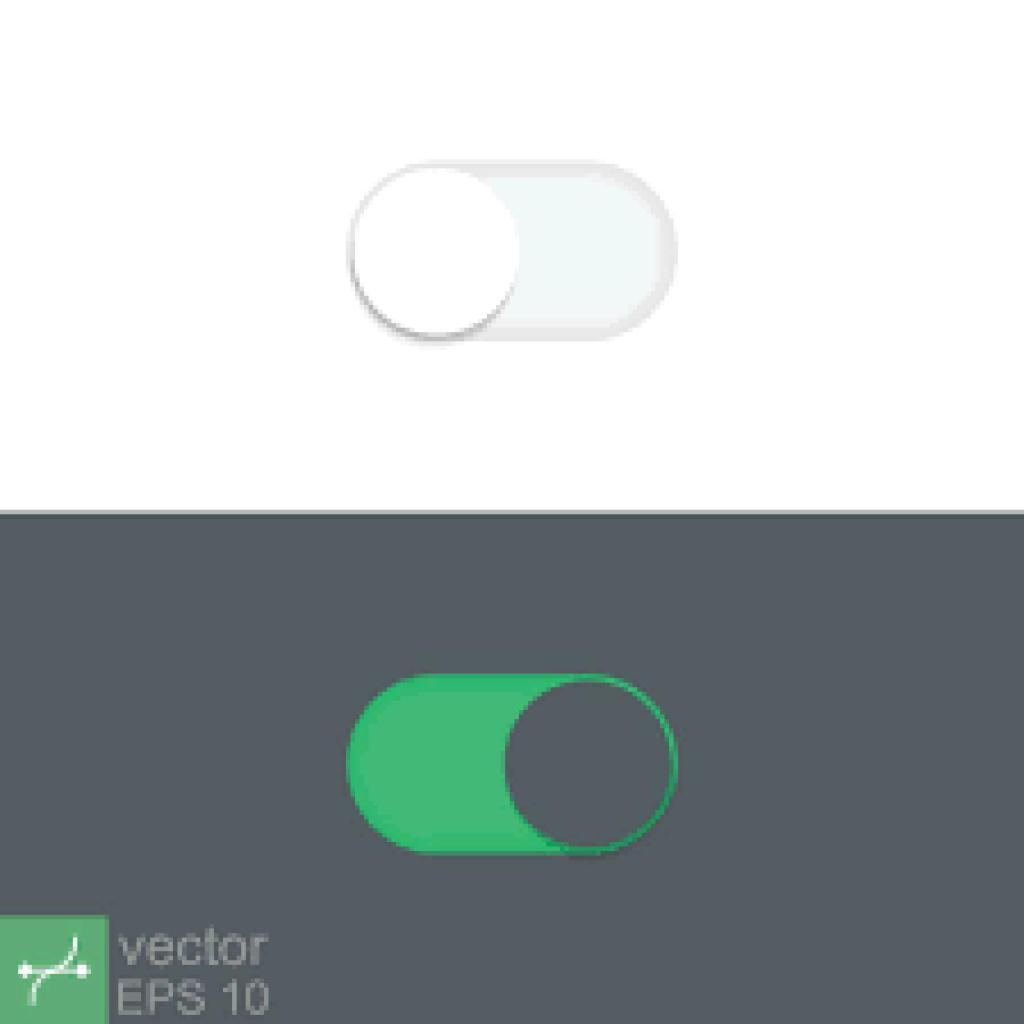switch: (345, 672, 680, 858), (347, 162, 678, 345)
